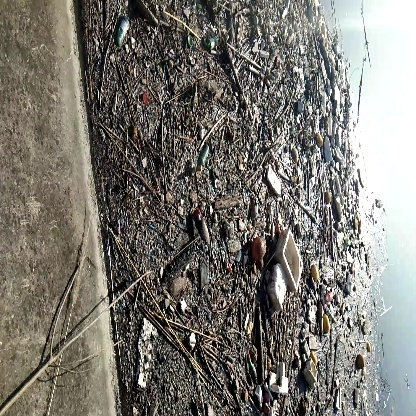branch: (7, 262, 127, 409)
plastic-garbage: (263, 221, 308, 302)
